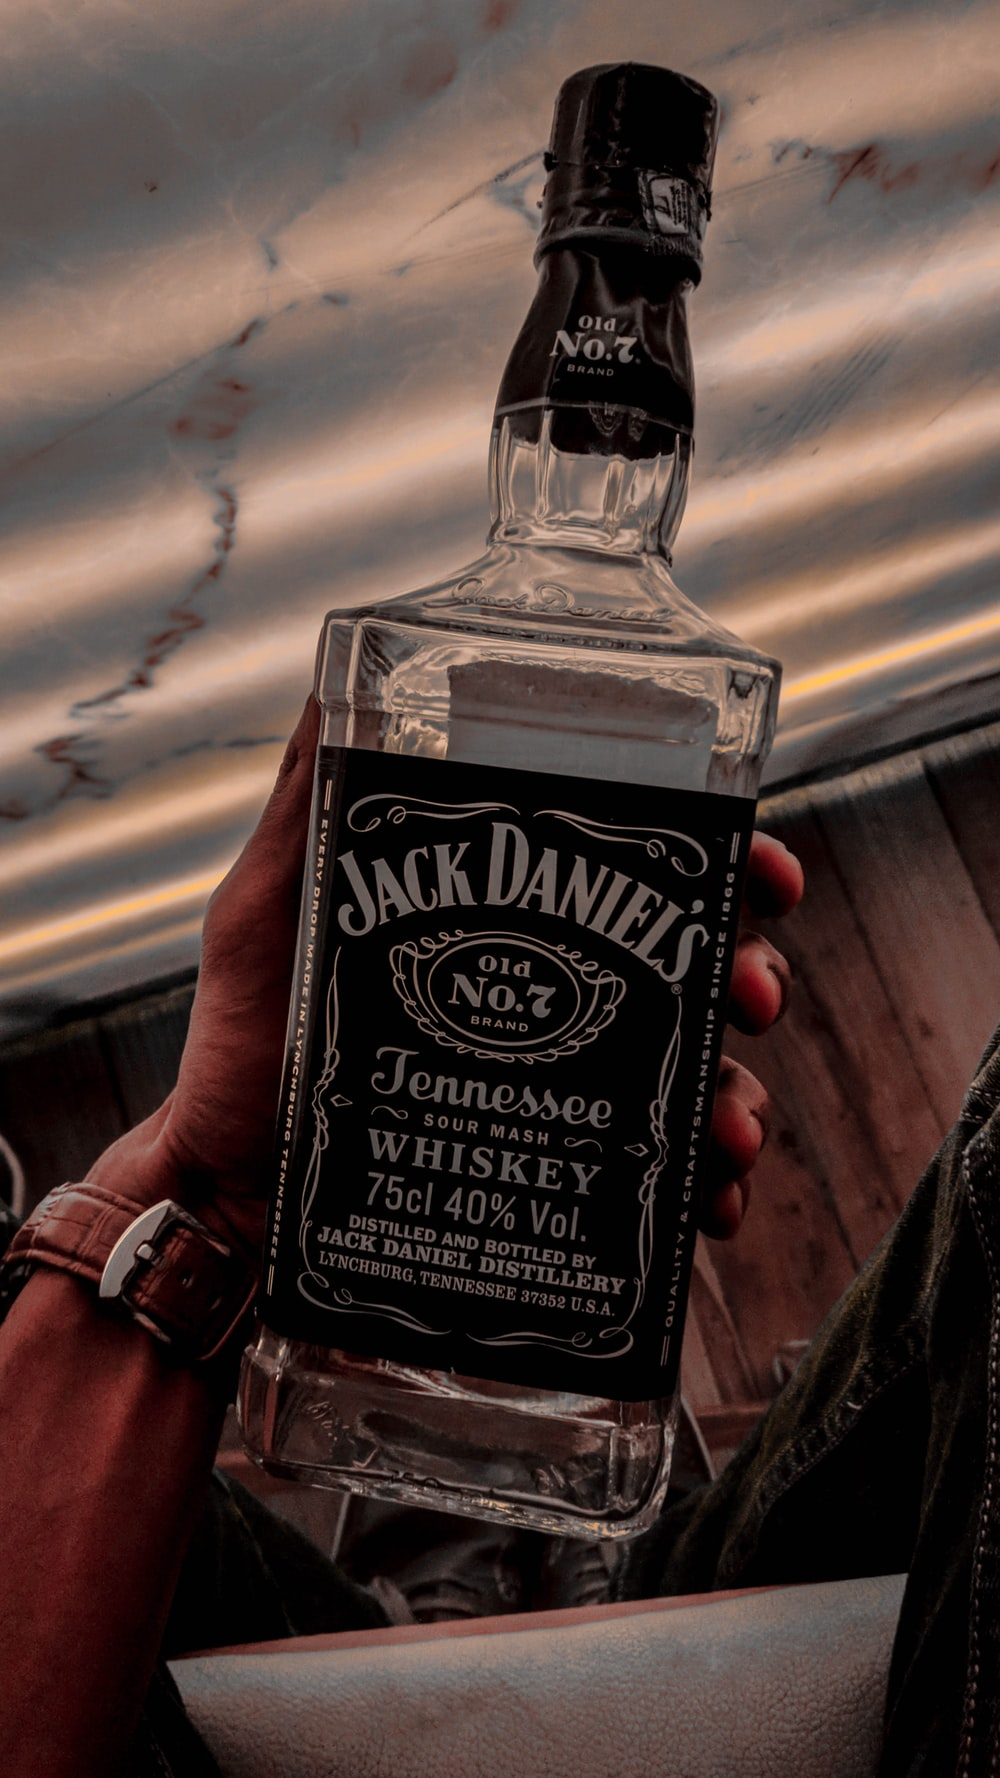Jack Daniel: (188, 37, 824, 1575)
